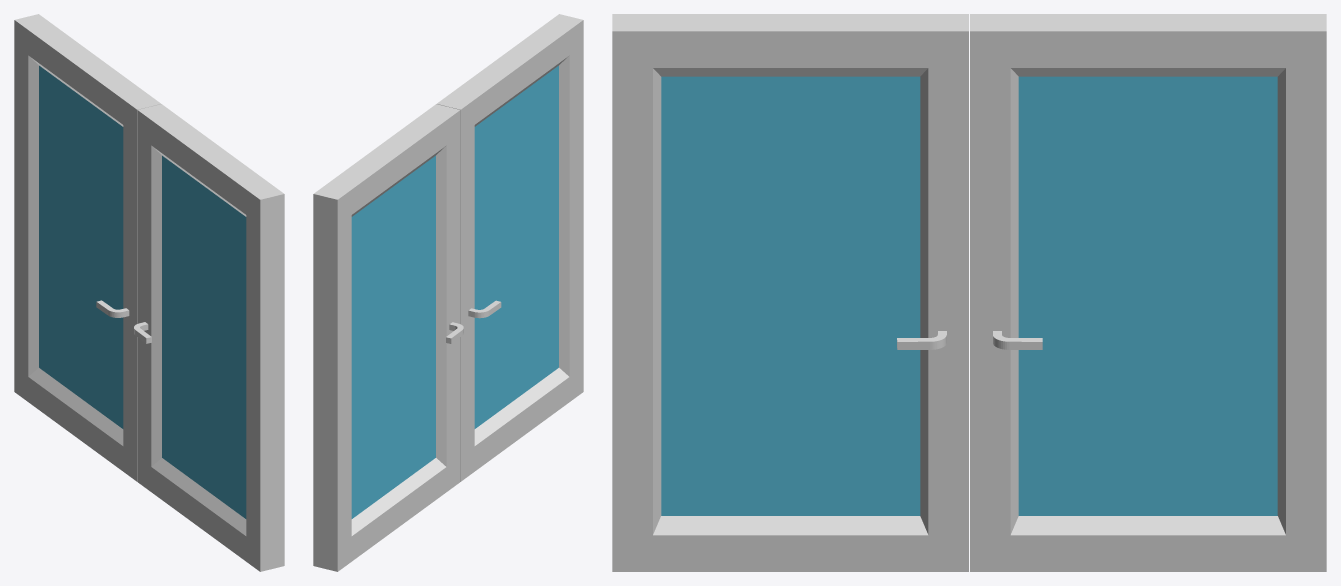
The model's file is PuertaVidrioDoble.fbx.
3 views of the same model, side by side, from view 1: azimuth 30°, elevation 25°; view 2: azimuth 150°, elevation 25°; view 3: azimuth 270°, elevation 25° (orthographic). The views are drawn at different scales.
Visible parts, largest first — view 1: Puerta.001, Puerta; view 2: Puerta, Puerta.001; view 3: Puerta, Puerta.001.
Boxes of the visible parts, left/top/right/bottom form: Puerta.001: left=137, top=104, right=284, bottom=571; Puerta: left=14, top=14, right=160, bottom=481; Puerta: left=313, top=104, right=460, bottom=571; Puerta.001: left=437, top=14, right=583, bottom=481; Puerta: left=970, top=14, right=1326, bottom=571; Puerta.001: left=612, top=14, right=968, bottom=571.
Bounding box in the file's own units: 15.58 × 100 × 120.
